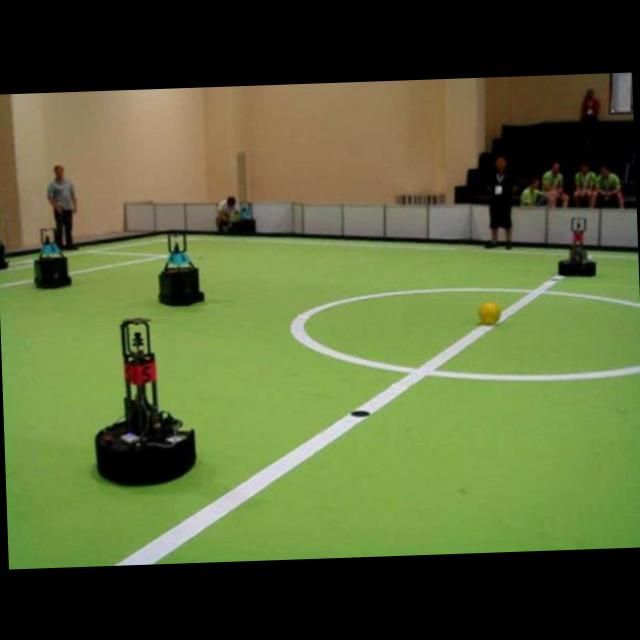ball: (478, 300, 499, 323)
robot: (95, 316, 194, 483), (158, 231, 204, 305), (557, 216, 596, 275), (33, 227, 71, 287)
